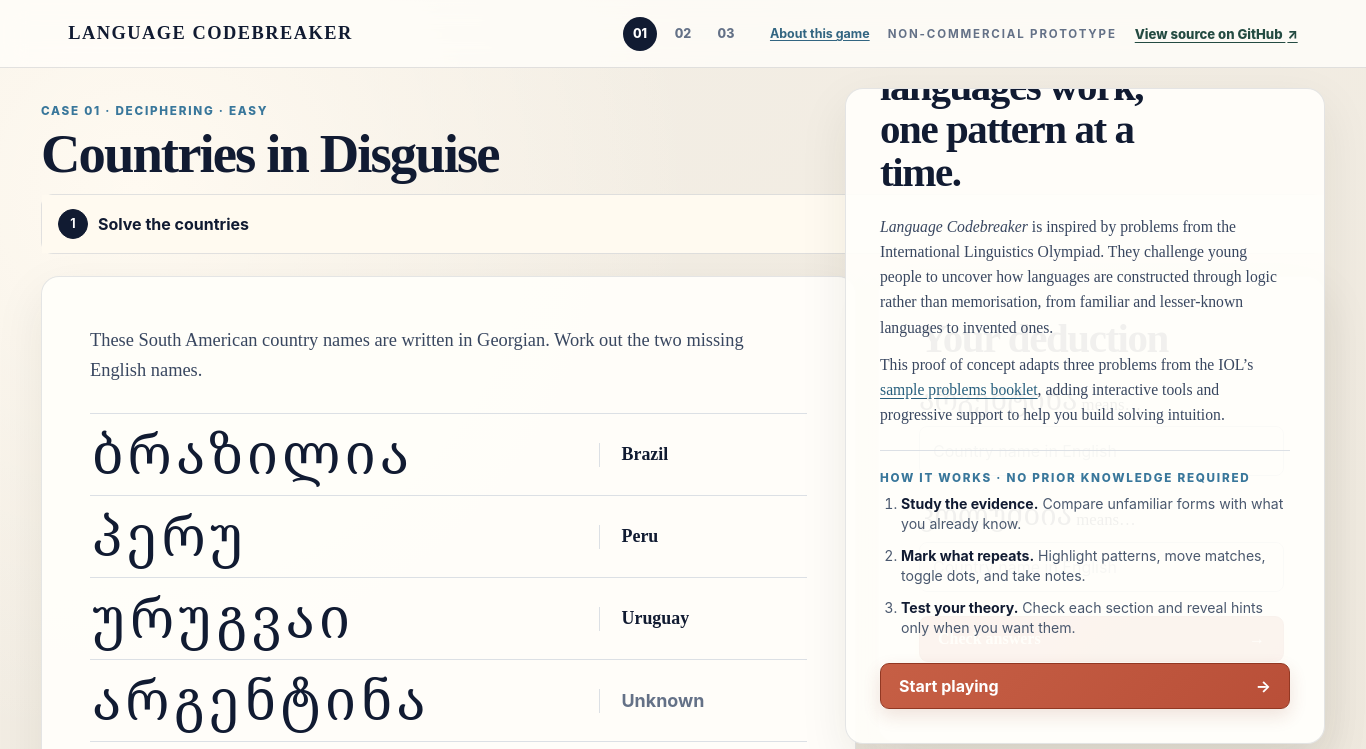
Test: prototype interactions › shows a dismissible and refindable game introduction over case one
This screenshot has width=1366, height=749.
(page scrolled)
Expected: the heading "Countries in Disguise" is shown, left=41, top=123, right=499, bottom=184
Expected: the dialog "Discover how languages work, one pattern at a time." is shown, left=845, top=88, right=1325, bottom=744
Click the button "Start playing →" at point(949, 686), box left=880, top=663, right=1290, bottom=709
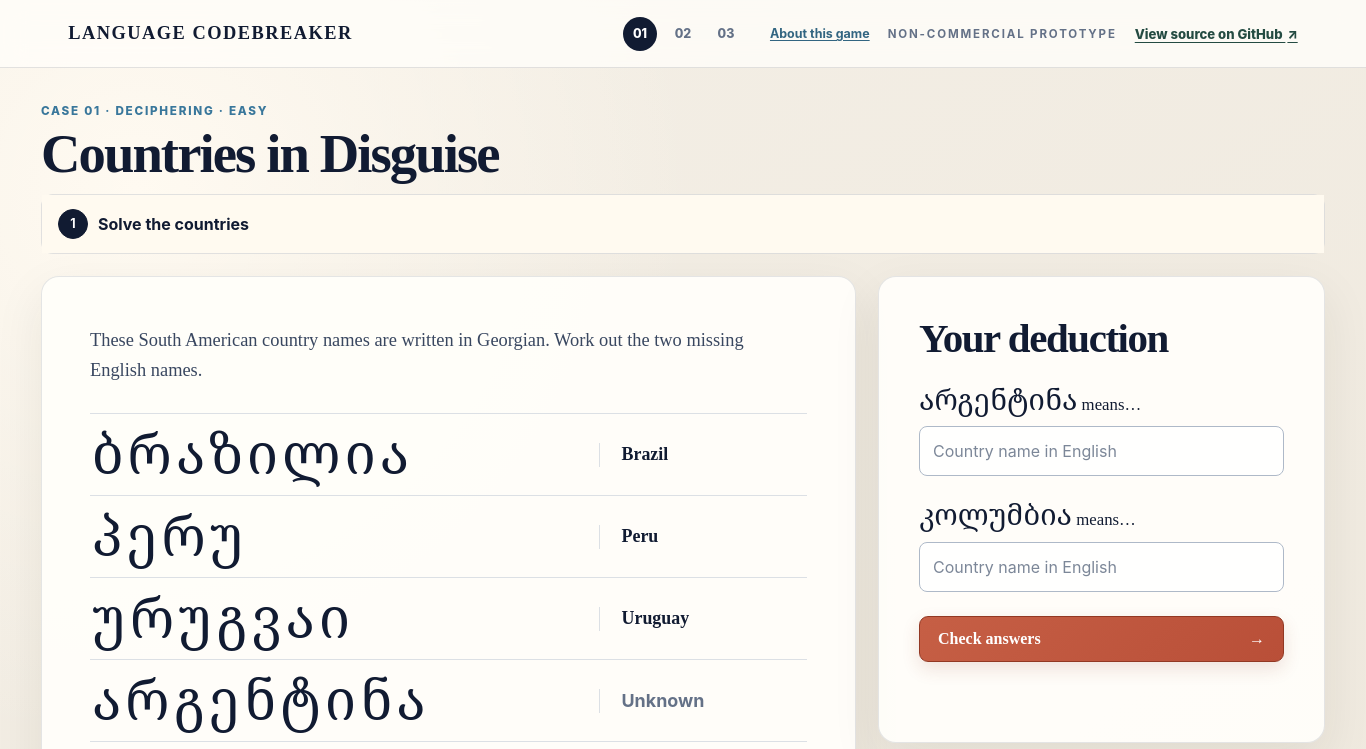
Expected: the heading "Countries in Disguise" is shown, left=41, top=123, right=499, bottom=184
Expected: the dialog is gone
Click the button "About this game" at point(820, 34), box left=770, top=18, right=870, bottom=49
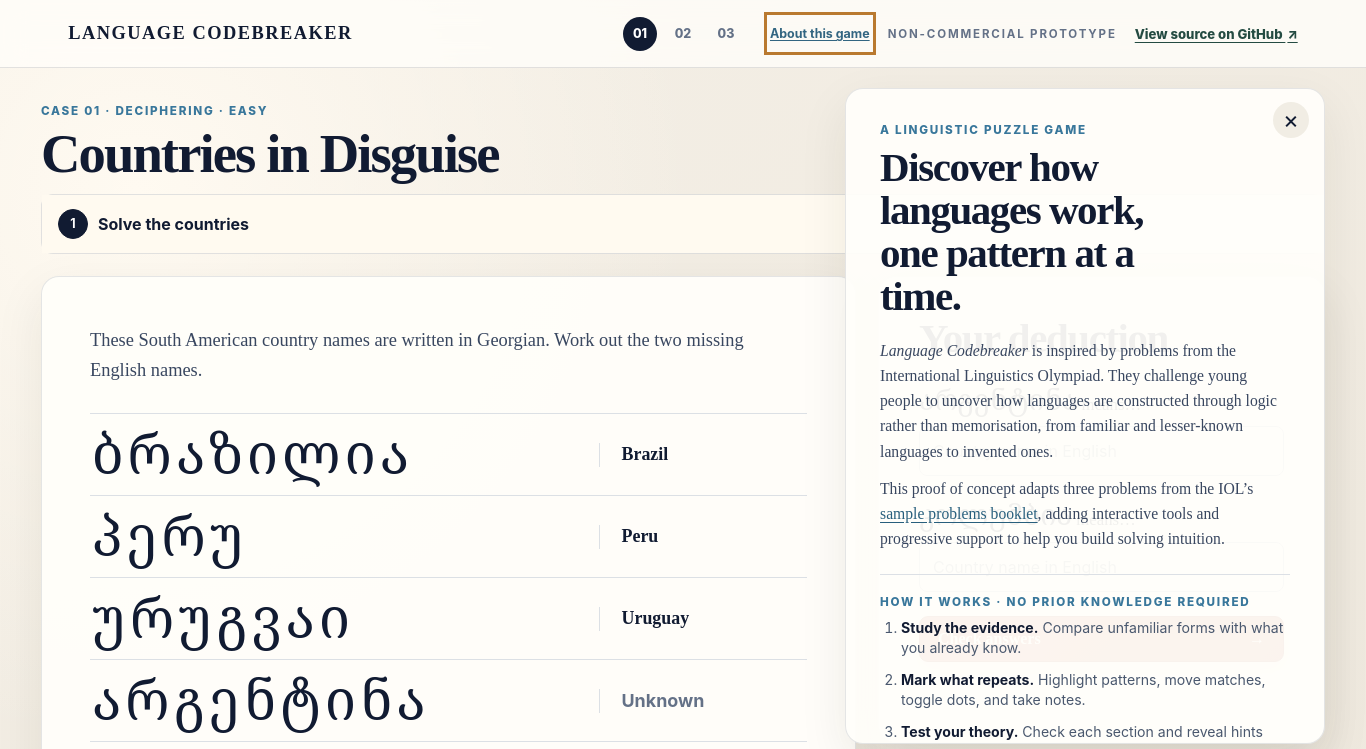
Expected: the dialog "Discover how languages work, one pattern at a time." is shown, left=845, top=88, right=1325, bottom=744
Click the button named "Close game introduction" at point(1291, 120), box left=1273, top=102, right=1309, bottom=138
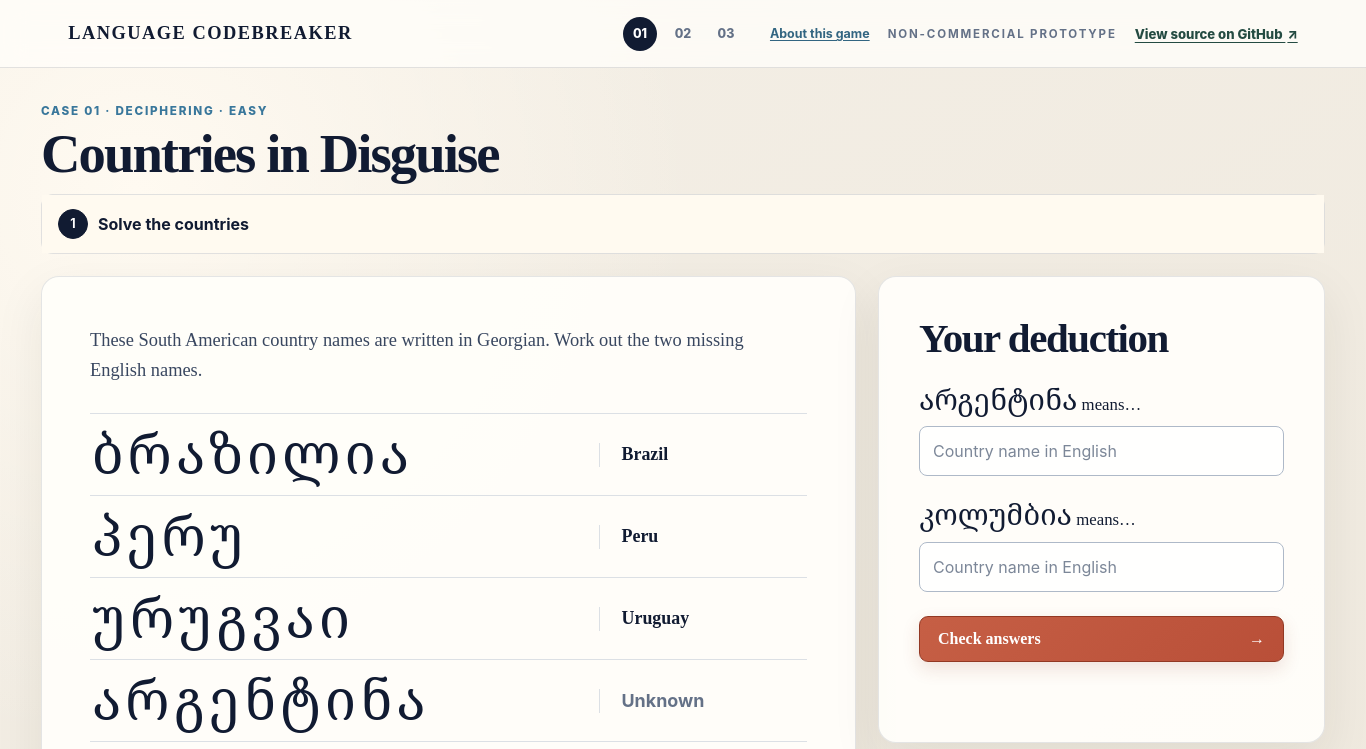
Expected: the dialog is gone
